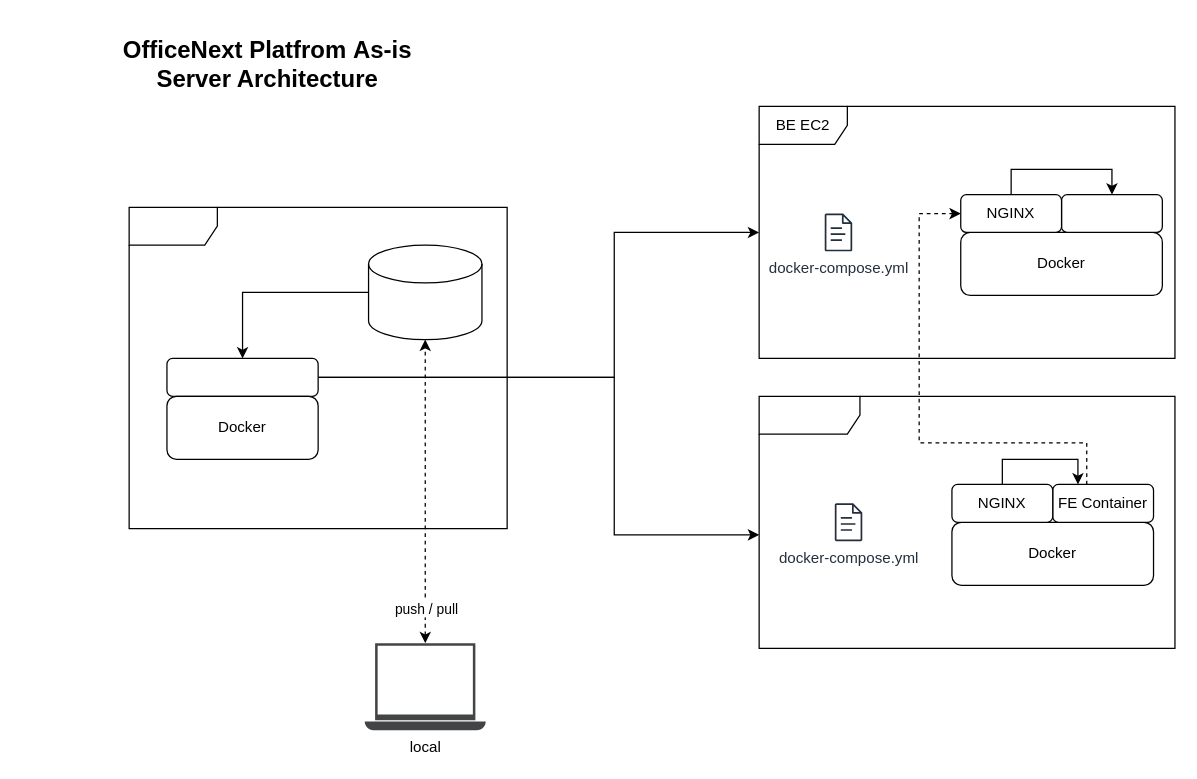
Image size: 1197x779. Some labels were removed from this diagram. Here are the shapes that lost their labels. From the top down, the box of each, then its label:
(1060, 193, 1162, 232): BE Container
(367, 244, 482, 340): Repository (Code, Image)
(166, 357, 318, 396): Runner
(128, 206, 507, 529): gitlab
(758, 395, 1175, 648): FE EC2
